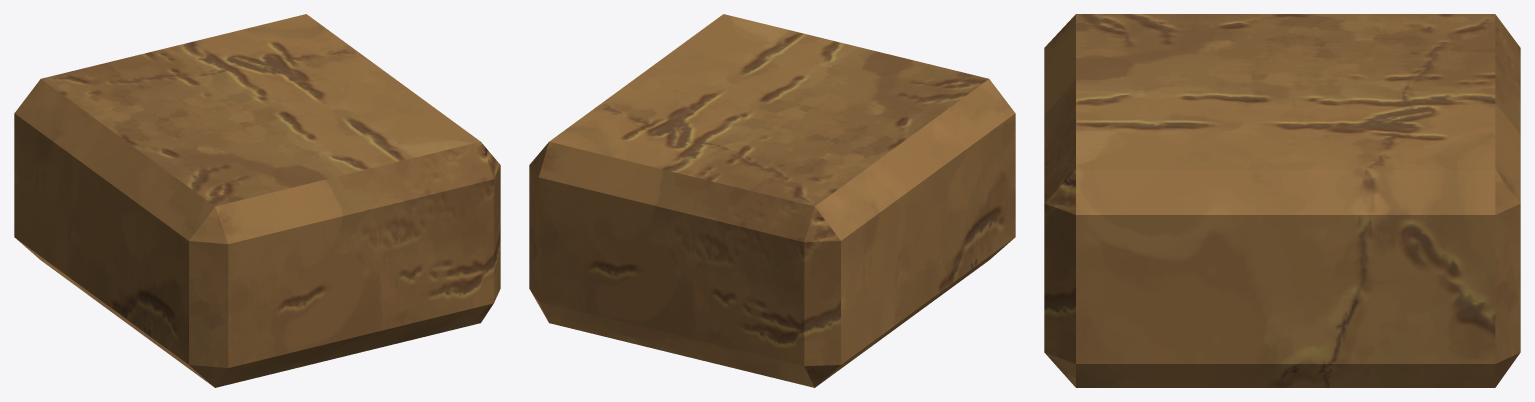
Rendered from Small_Rock.FBX.
The picture shows the model from 3 angles, left to right: view 1: azimuth 30°, elevation 25°; view 2: azimuth 150°, elevation 25°; view 3: azimuth 270°, elevation 25°; orthographic projection. The views are drawn at different scales.
Visible parts, largest first — view 1: Small_Rock; view 2: Small_Rock; view 3: Small_Rock.
Boxes of the visible parts, x1=… form: Small_Rock: x1=14, y1=14, x2=500, y2=387; Small_Rock: x1=529, y1=14, x2=1015, y2=387; Small_Rock: x1=1044, y1=14, x2=1520, y2=387.
Size of the model in its own units: 42.65 by 23.74 by 46.95.
